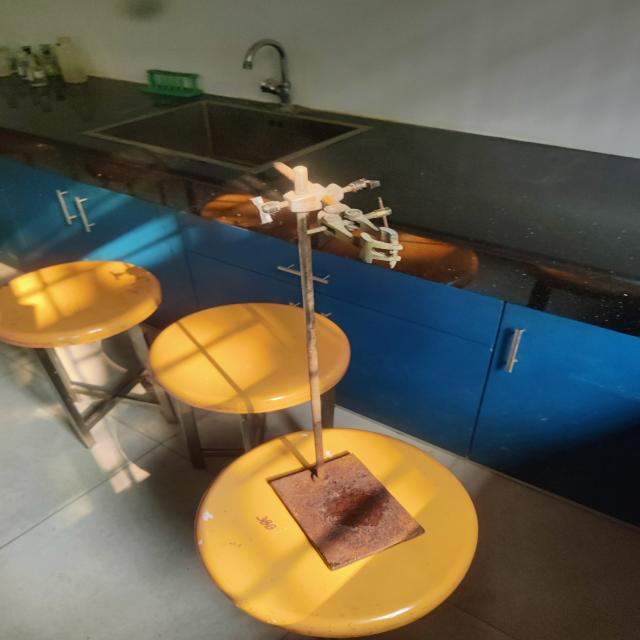Burette_Stands: (235, 142, 444, 582)
